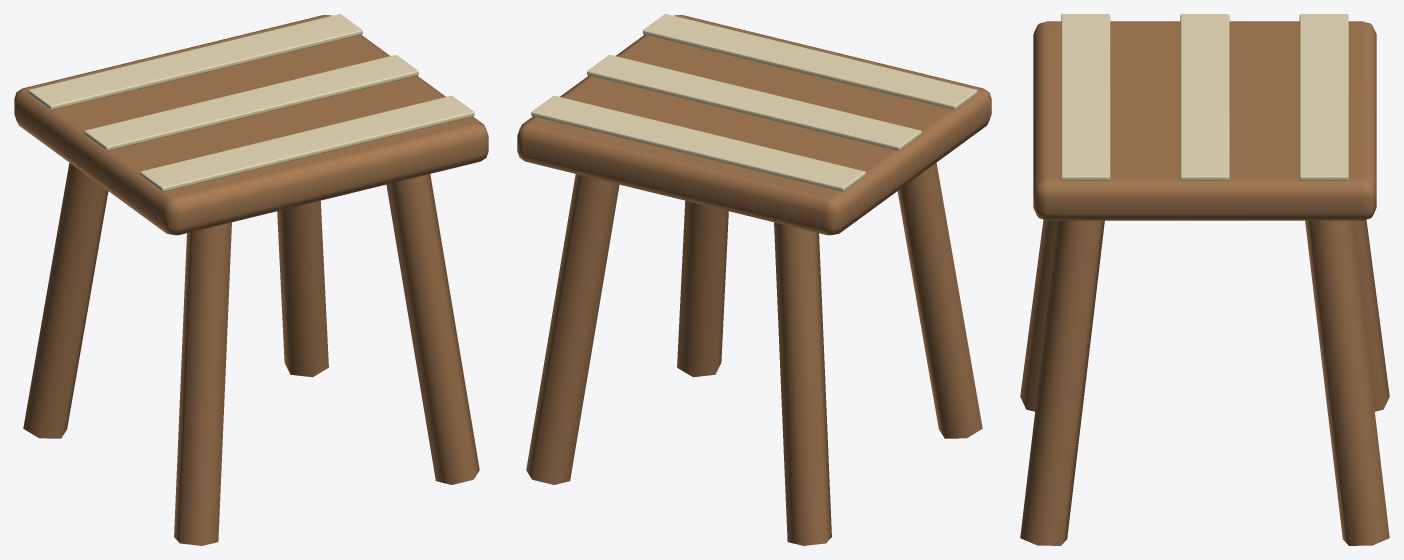
Rendered from field_stool.glb.
3 views of the same model, side by side, from view 1: azimuth 30°, elevation 25°; view 2: azimuth 150°, elevation 25°; view 3: azimuth 270°, elevation 25° (orthographic). The views are drawn at different scales.
Visible parts, largest first — view 1: Seat, Splayed_leg, Splayed_leg.002, Splayed_leg.001, Canvas_band.002, Canvas_band.001, Canvas_band, Splayed_leg.003; view 2: Seat, Splayed_leg.001, Splayed_leg.003, Splayed_leg, Canvas_band, Canvas_band.001, Canvas_band.002, Splayed_leg.002; view 3: Seat, Splayed_leg.002, Splayed_leg.003, Canvas_band, Canvas_band.001, Canvas_band.002, Splayed_leg, Splayed_leg.001.
Part boxes in pixels (x1,y1,x2,y2): Seat: [14, 15, 488, 235]; Splayed_leg: [174, 222, 231, 545]; Splayed_leg.002: [386, 174, 479, 484]; Splayed_leg.001: [23, 163, 108, 438]; Canvas_band.002: [28, 14, 362, 110]; Canvas_band.001: [84, 55, 418, 151]; Canvas_band: [140, 95, 474, 191]; Splayed_leg.003: [277, 200, 328, 377]; Seat: [517, 15, 991, 235]; Splayed_leg.001: [774, 222, 831, 545]; Splayed_leg.003: [526, 174, 619, 484]; Splayed_leg: [897, 163, 982, 438]; Canvas_band: [643, 14, 977, 110]; Canvas_band.001: [587, 55, 921, 151]; Canvas_band.002: [531, 95, 865, 191]; Splayed_leg.002: [677, 200, 728, 377]; Seat: [1033, 21, 1376, 220]; Splayed_leg.002: [1020, 220, 1104, 545]; Splayed_leg.003: [1305, 220, 1389, 545]; Canvas_band: [1061, 14, 1110, 180]; Canvas_band.001: [1180, 14, 1229, 180]; Canvas_band.002: [1299, 14, 1348, 180]; Splayed_leg: [1020, 219, 1057, 411]; Splayed_leg.001: [1352, 219, 1389, 411].
Bounding box in the file's own units: 0.57 × 0.5958 × 0.5271.
